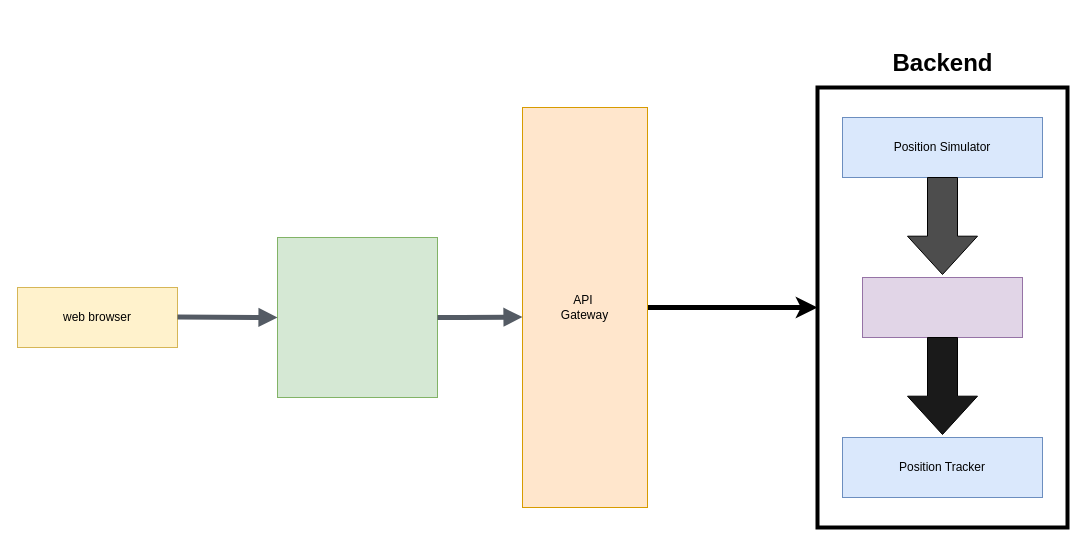
The diagram is 1087 pixels wide and 546 high, and some of its shapes have lost their labels. The shapes that lost their labels are listed below. From the top down, each one's box as (x1, y1, x2, y2) in pixels, then its label:
(276, 236, 438, 398): nginx reverse proxy
(862, 276, 1022, 338): Queue
